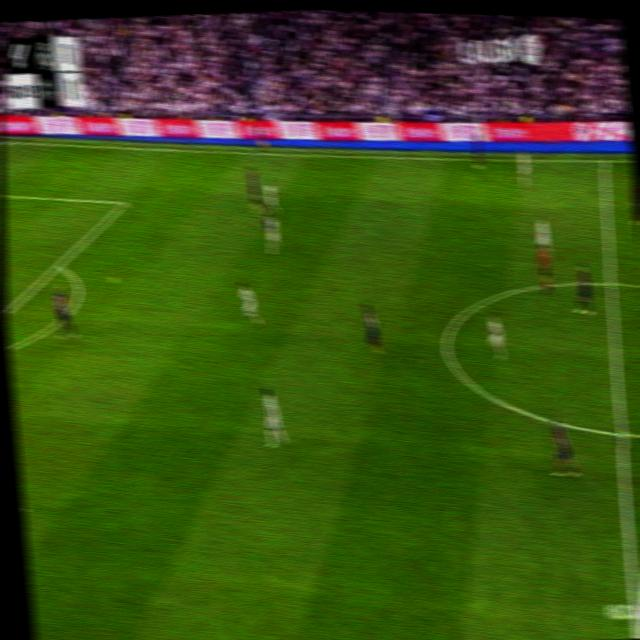bigarea_top_inner: (119, 193, 129, 209)
corner: (2, 135, 7, 145)
halfcircle_bottom: (611, 415, 631, 447)
halfcircle_top: (603, 268, 620, 297)
midline_top_intersection: (598, 153, 611, 168)
top_arc_area_intersection: (52, 255, 65, 272)
